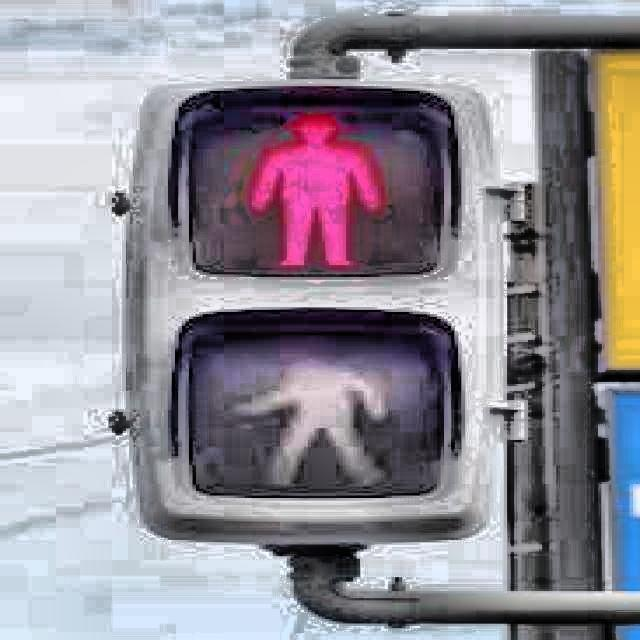semaforo pedestre: (58, 40, 540, 590)
